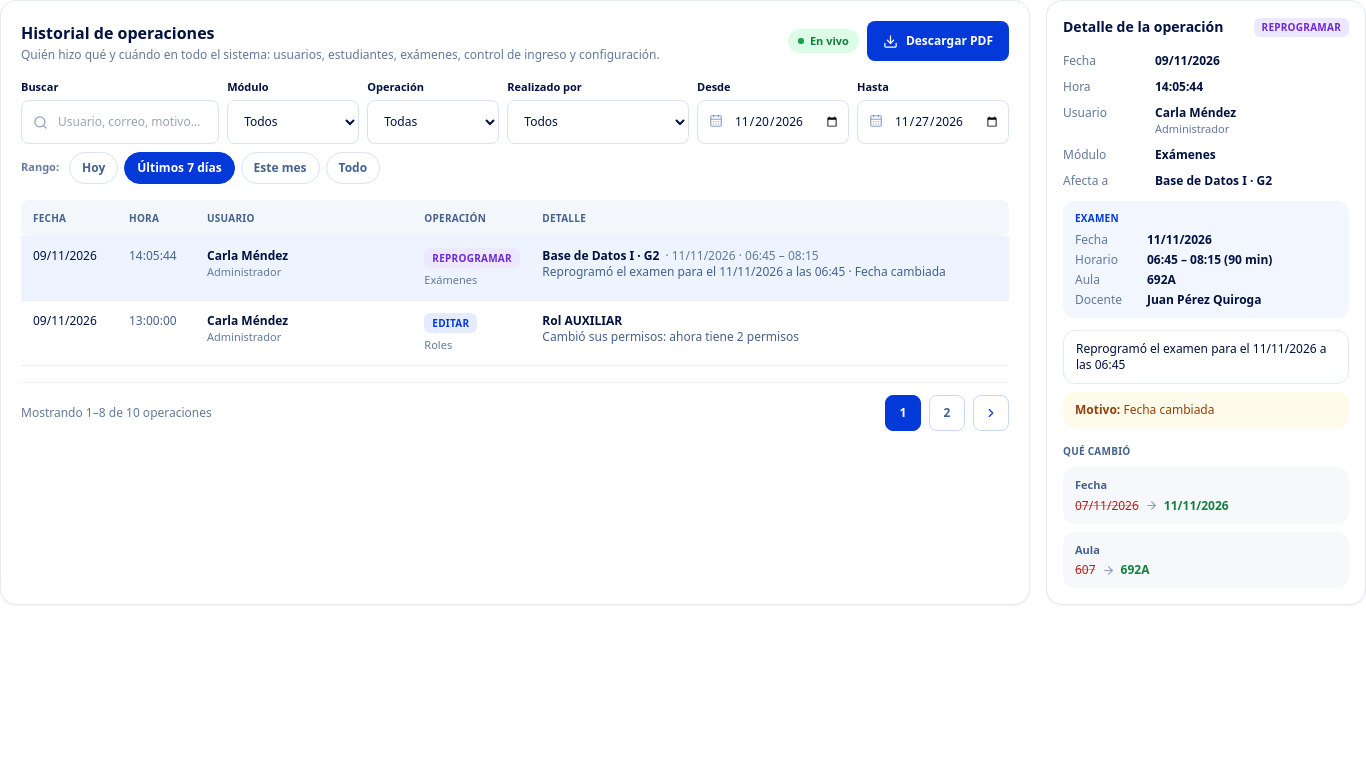
Test: Filtrar y descargar el historial por quién lo hizo y por rango › «Realizado por» y los rangos rápidos cambian lo que se consulta
Later steps or results of the test are not shown.
Select "Juan Pérez · DOCENTE" in the dropdown labelled "Realizado por". click: (598, 122)
box: x1=507 y1=100 x2=689 y2=144
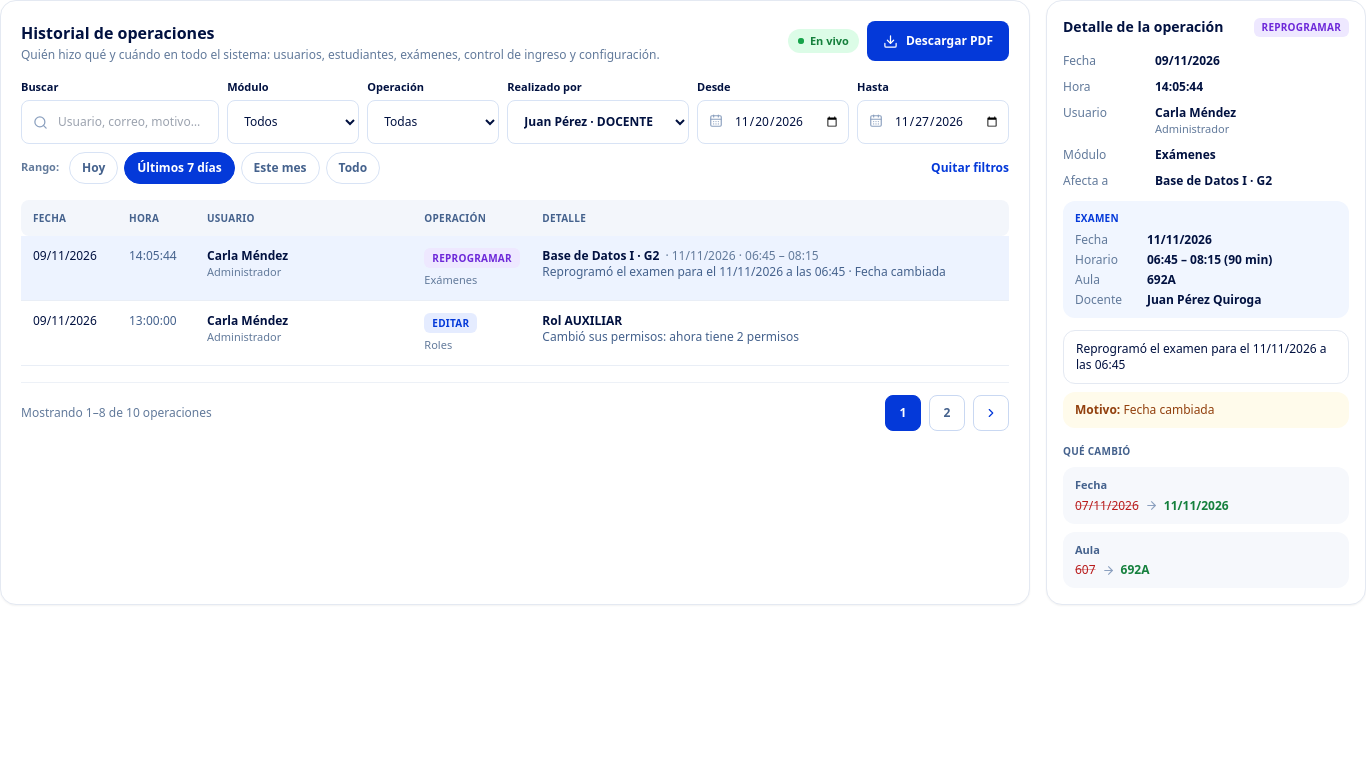
Click the button "Todo". click: (353, 168)
box: x1=326 y1=152 x2=380 y2=184
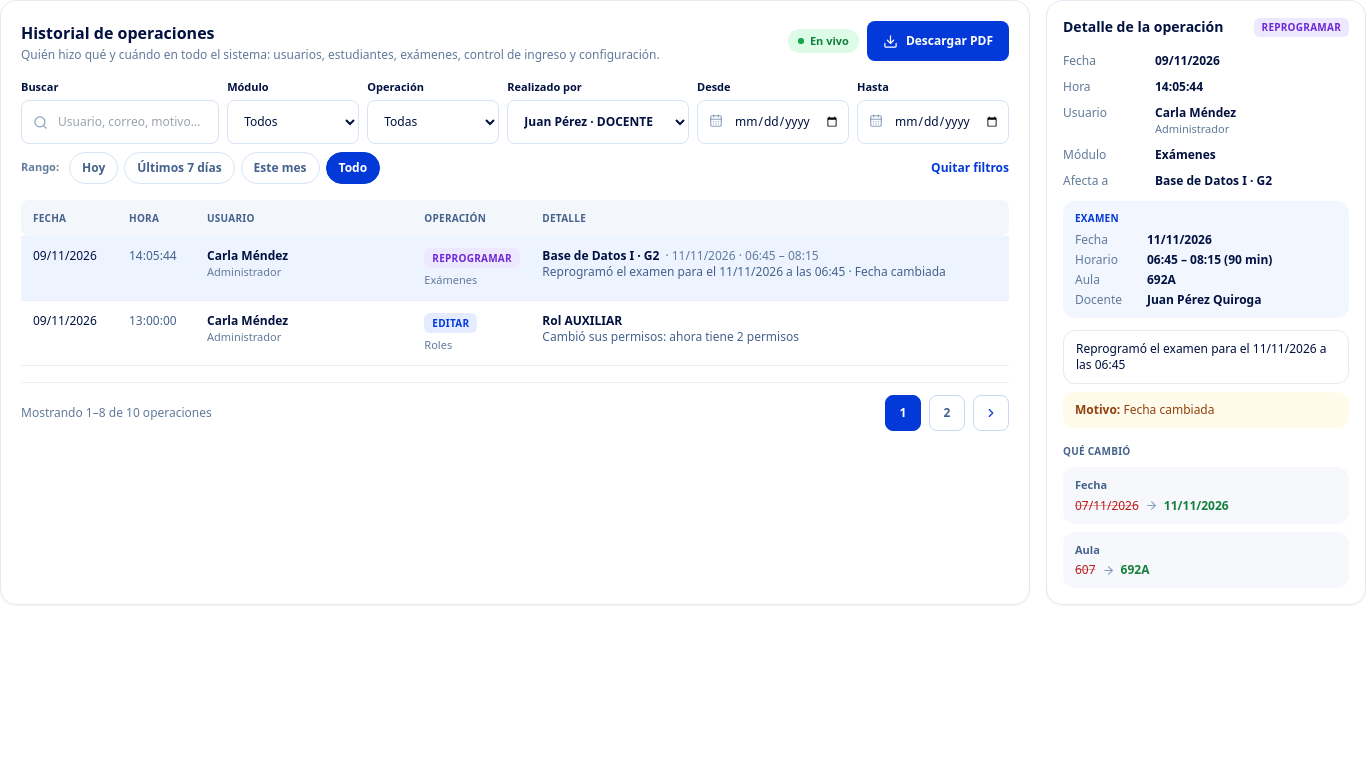
Check: the button "Todo" is pressed, box x1=326 y1=152 x2=380 y2=184
